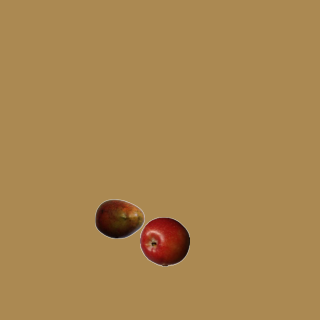Apple Braeburn: (139, 216, 189, 266)
Mango Red: (94, 193, 144, 243)
